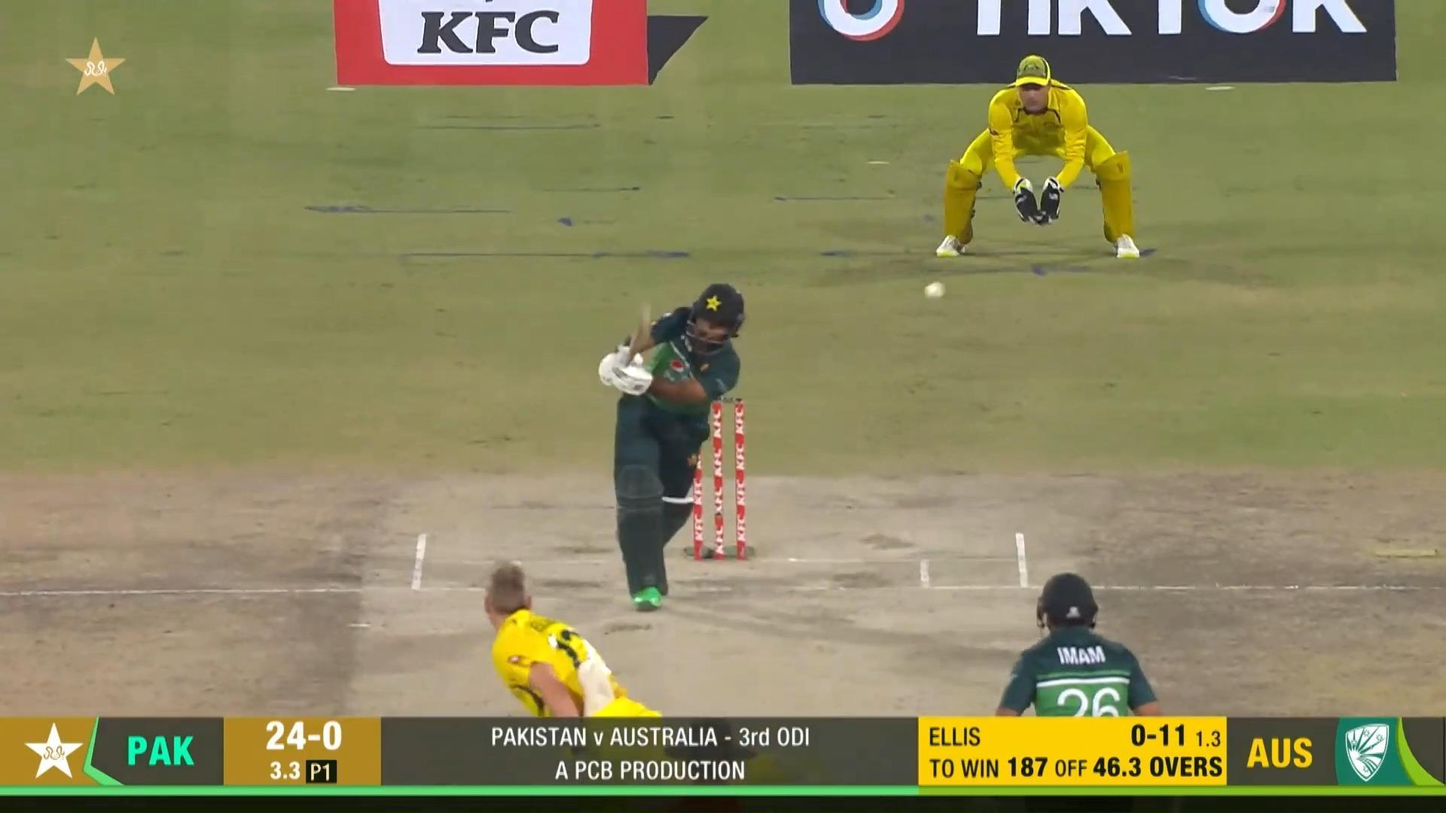BM 1: (598, 280, 748, 615)
BO: (482, 562, 676, 778)
